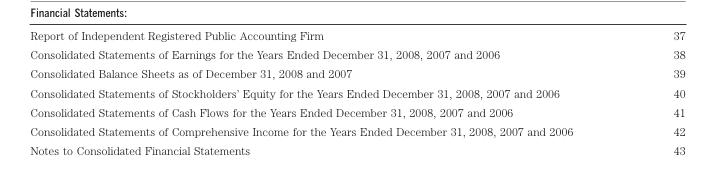table: (29, 28, 684, 156)
table column: (29, 28, 622, 156), (622, 28, 684, 156)
table row: (29, 82, 684, 102), (29, 44, 684, 63), (29, 63, 684, 82), (29, 102, 684, 121), (29, 121, 684, 140), (29, 28, 684, 44), (29, 140, 684, 156)
